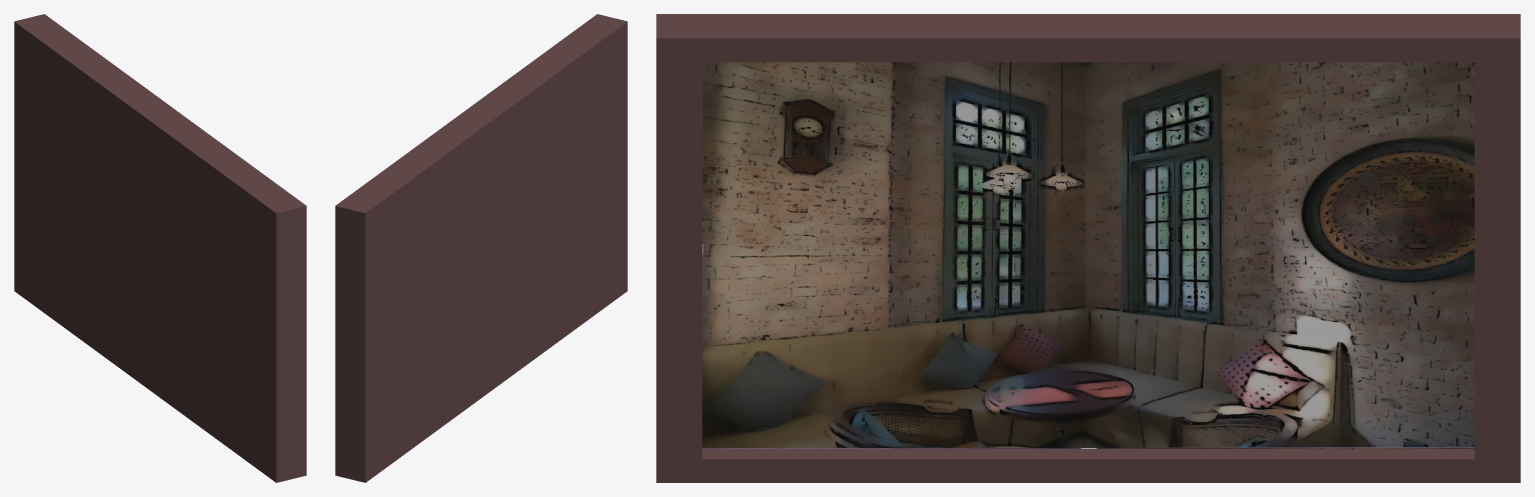
Rendered from BBistro.glb.
The picture shows the model from 3 angles, left to right: view 1: azimuth 30°, elevation 25°; view 2: azimuth 150°, elevation 25°; view 3: azimuth 270°, elevation 25°; orthographic projection. The views are drawn at different scales.
Visible parts, largest first — view 1: Cube; view 2: Cube; view 3: Cube.001, Cube.
Boxes of the visible parts, x1,y1,x2,y2 form: Cube: (14, 14, 306, 482); Cube: (335, 14, 627, 482); Cube.001: (702, 62, 1474, 448); Cube: (656, 14, 1520, 482).
Bounding box in the file's own units: 1.02 × 8.65 × 15.24.
2 materials, 1 textured.
